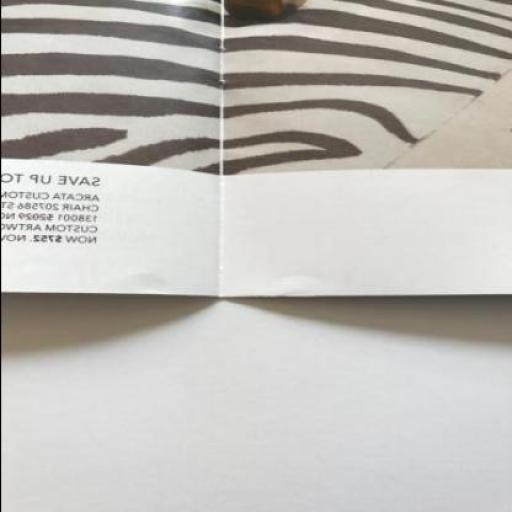paper: (1, 0, 511, 299), (220, 0, 511, 298), (1, 0, 222, 299)
